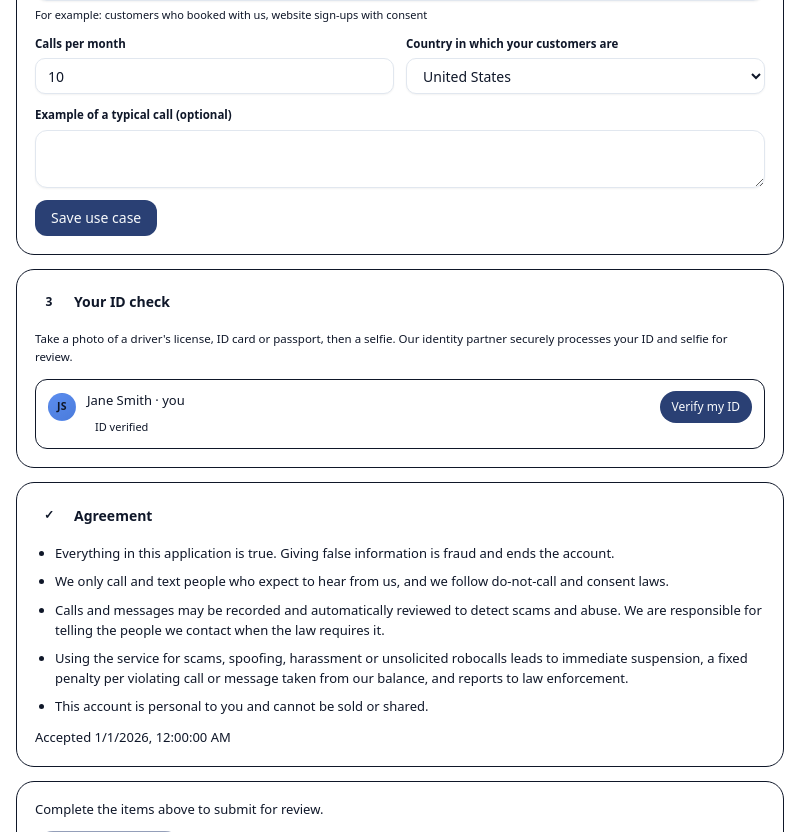
Test: Individual reverification — needs_info with a stale verified self › offers Verify, does not mark identity complete, and keeps Submit disabled
The image size is (801, 832).
(page scrolled)
Click the button "Verify my ID" at {"x": 706, "y": 407}, box [660,391,752,423]
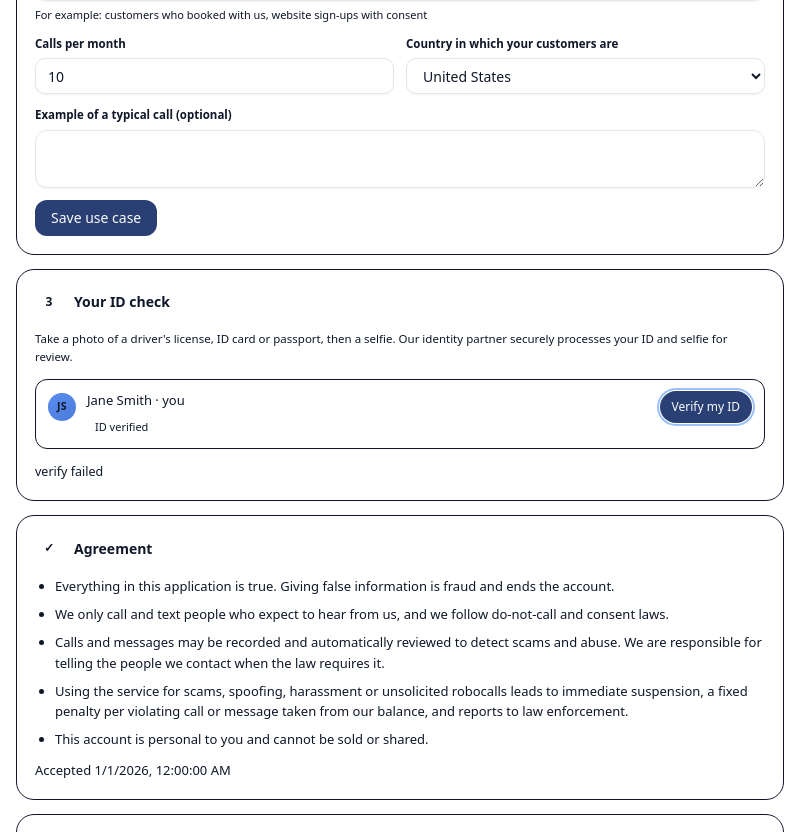
Now the message "verify failed" is shown, box [35,463,103,480]
